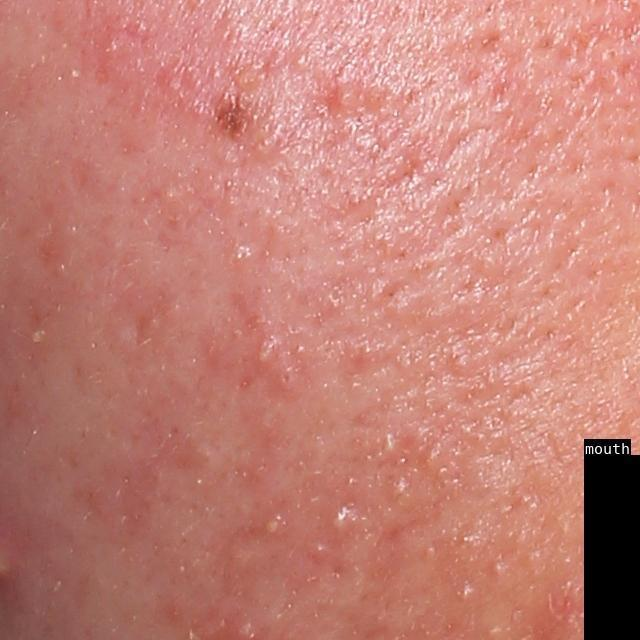atrophic_scar: (124, 295, 163, 357)
comedo: (275, 363, 300, 393), (487, 558, 509, 584), (454, 579, 474, 607)
nevus: (216, 101, 244, 137)
pustule: (330, 508, 351, 535), (252, 344, 276, 366), (262, 516, 282, 538)
